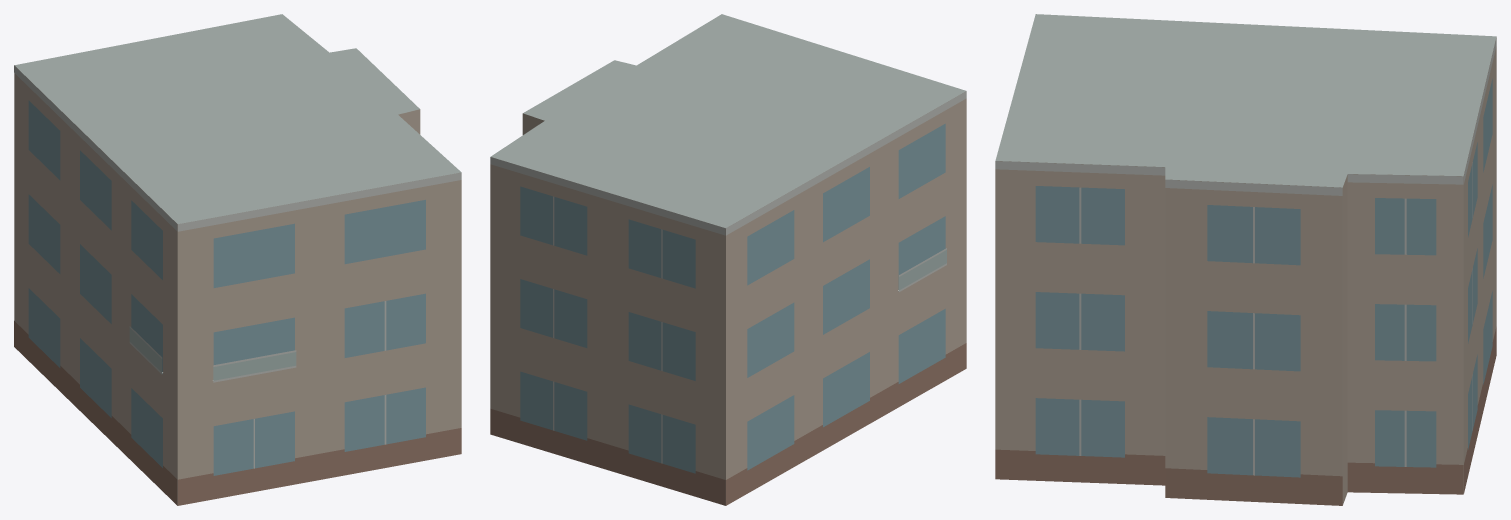
Rendered from survey-upis-32916760.glb.
The picture shows the model from 3 angles, left to right: view 1: azimuth 30°, elevation 25°; view 2: azimuth 150°, elevation 25°; view 3: azimuth 270°, elevation 25°; orthographic projection. The views are drawn at different scales.
Parts seen in each view (by area): view 1: survey-upis-32916760.tmp; view 2: survey-upis-32916760.tmp; view 3: survey-upis-32916760.tmp.
Part boxes in pixels (x1,y1,x2,y2): survey-upis-32916760.tmp: [14, 14, 461, 505]; survey-upis-32916760.tmp: [490, 14, 966, 505]; survey-upis-32916760.tmp: [995, 14, 1496, 505].
Bounding box in the file's own units: 10.7 × 9.15 × 13.07.
